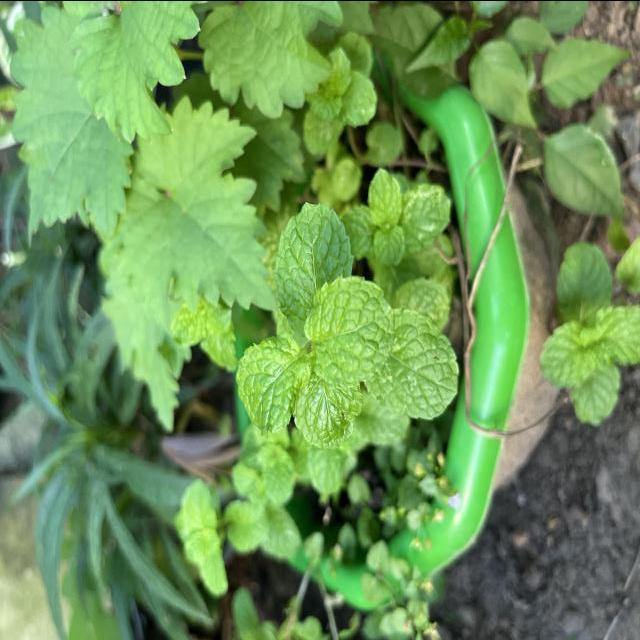Mentha spicata: (272, 199, 356, 334), (368, 306, 462, 420), (304, 274, 398, 386), (234, 333, 308, 437)
